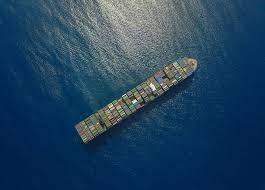Boat: (70, 51, 204, 148)
